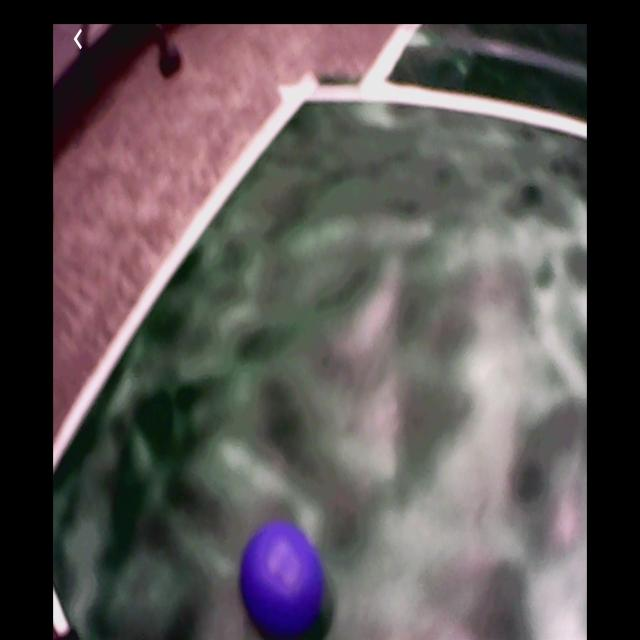ball: (241, 522, 326, 637)
